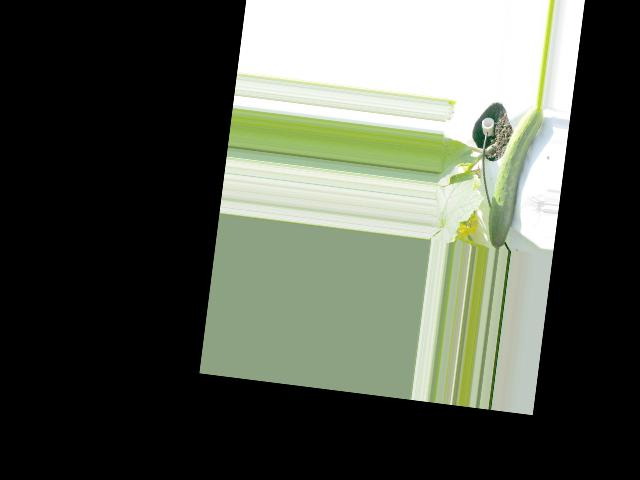cucumber: (485, 100, 544, 252)
